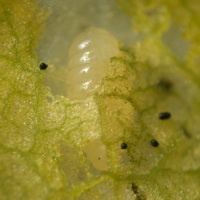insect: (39, 63, 47, 69)
